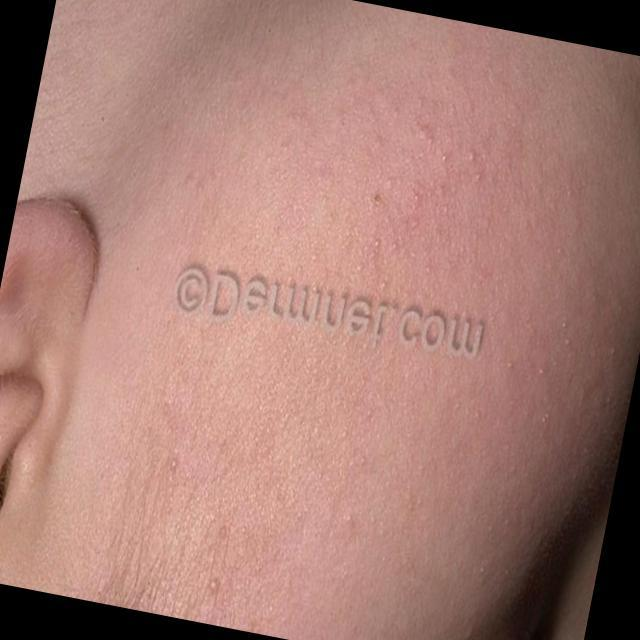Eczema: (304, 131, 512, 356)
